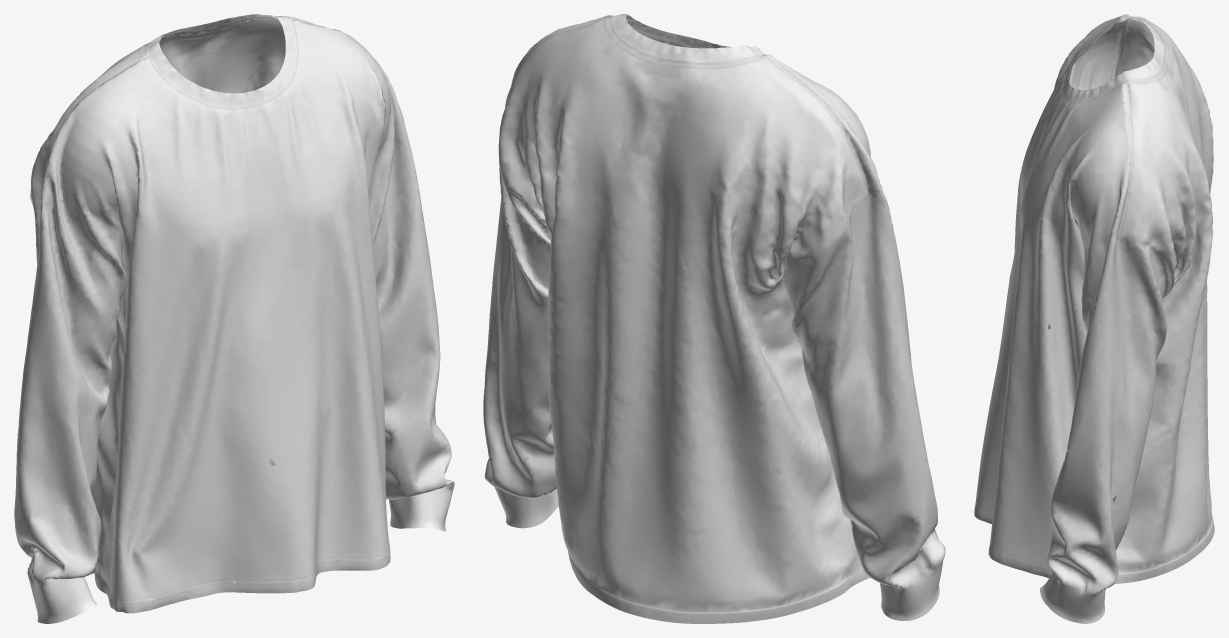
File: Sweatshirt Jungle.gltf
The picture shows the model from 3 angles, left to right: view 1: azimuth 30°, elevation 25°; view 2: azimuth 150°, elevation 25°; view 3: azimuth 270°, elevation 25°; orthographic projection. The views are drawn at different scales.
Parts seen in each view (by area): view 1: Pattern2D_316288, Pattern2D_316281, Pattern2D_316289, Pattern2D_316292, Pattern2D_9197580, Pattern2D_316286, Pattern2D_316285; view 2: Pattern2D_316292, Pattern2D_316281, Pattern2D_316289, Pattern2D_316288, Pattern2D_9197580, Pattern2D_316286, Pattern2D_316285; view 3: Pattern2D_316288, Pattern2D_316292, Pattern2D_316289, Pattern2D_316285, Pattern2D_9197580, Pattern2D_316294.
Part boxes in pixels (box(x1,y1,x2,y2)): Pattern2D_316288: box(41, 20, 401, 613); Pattern2D_316281: box(14, 190, 126, 584); Pattern2D_316289: box(369, 113, 454, 499); Pattern2D_316292: box(30, 16, 319, 593); Pattern2D_9197580: box(145, 14, 298, 109); Pattern2D_316286: box(28, 577, 97, 623); Pattern2D_316285: box(389, 487, 453, 531); Pattern2D_316292: box(498, 16, 869, 623); Pattern2D_316281: box(782, 193, 945, 589); Pattern2D_316289: box(483, 167, 556, 498); Pattern2D_316288: box(511, 15, 883, 586); Pattern2D_9197580: box(610, 14, 764, 63); Pattern2D_316286: box(880, 562, 942, 620); Pattern2D_316285: box(494, 486, 558, 528); Pattern2D_316288: box(974, 14, 1130, 577); Pattern2D_316292: box(1114, 16, 1214, 583); Pattern2D_316289: box(1047, 232, 1176, 595); Pattern2D_316285: box(1040, 572, 1105, 623); Pattern2D_9197580: box(1063, 18, 1165, 102); Pattern2D_316294: box(1116, 19, 1134, 75).
Bounding box in the file's own units: 0.6155 × 0.7344 × 0.325.
12 materials, 12 textured.
